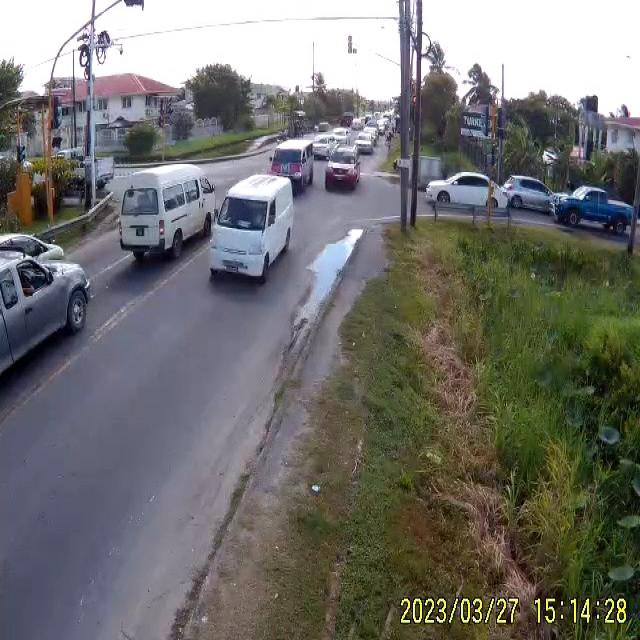car: (1, 241, 92, 425), (117, 166, 215, 260), (209, 174, 295, 281), (556, 187, 634, 232), (425, 171, 499, 209), (270, 138, 314, 194), (502, 178, 554, 216), (325, 155, 360, 192), (356, 131, 376, 157), (312, 140, 332, 162)
